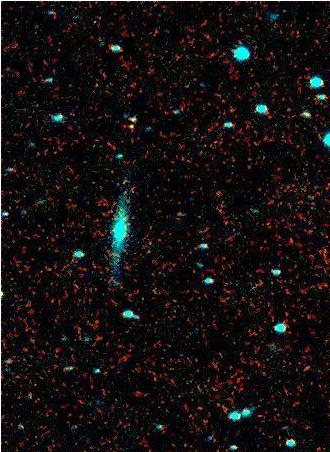star: (116, 112, 146, 142)
